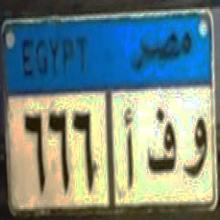6: (22, 110, 47, 196), (73, 108, 98, 190), (49, 108, 70, 191)
alif: (120, 103, 137, 190)
faa: (147, 104, 176, 181)
waw: (184, 98, 209, 184)
